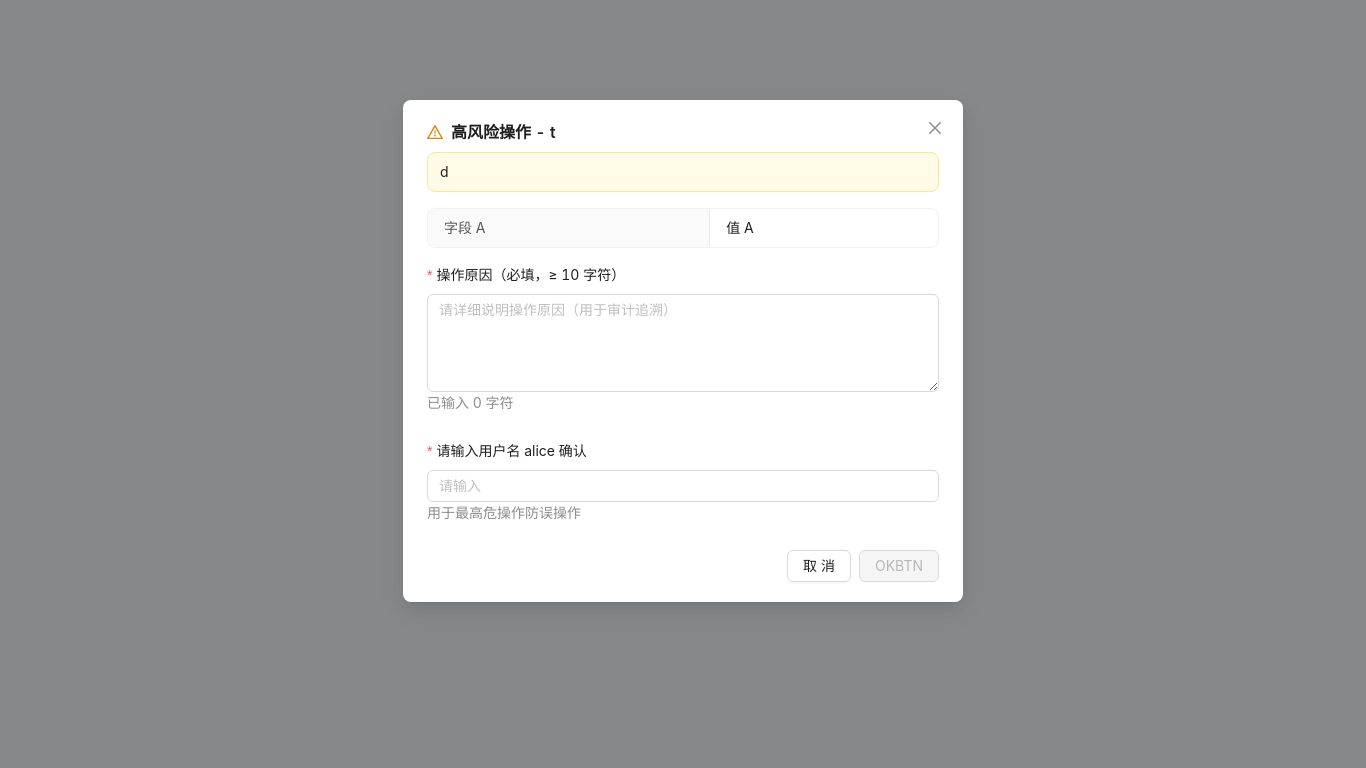
HighRiskConfirmModal (TC-HRC-FE-001 ~ 005) › TC-HRC-FE-002 (§4 commit E): usernameChallenge 不匹配时按钮 disabled
Type "撤销因风控规则触发的误操作以释放被冻结的余额" into the text box with placeholder "请详细说明操作原因（用于审计追溯）" at (683, 343), box left=427, top=294, right=939, bottom=392
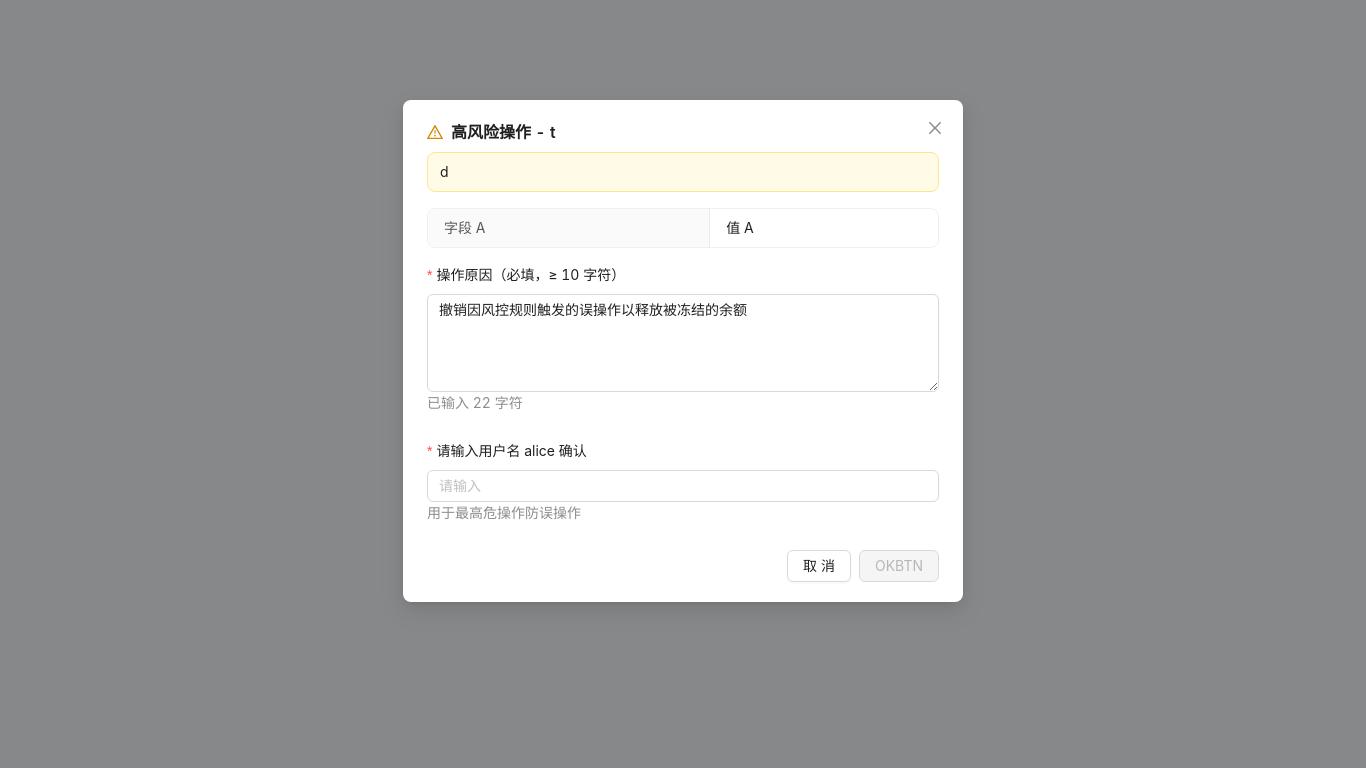
Expected: the button "OKBTN" is disabled, left=859, top=550, right=939, bottom=582
# 输入错误的 challenge → 仍 disabled + 红色提示
Type "bob" into the field with placeholder "请输入" at (683, 486), box left=427, top=470, right=939, bottom=502
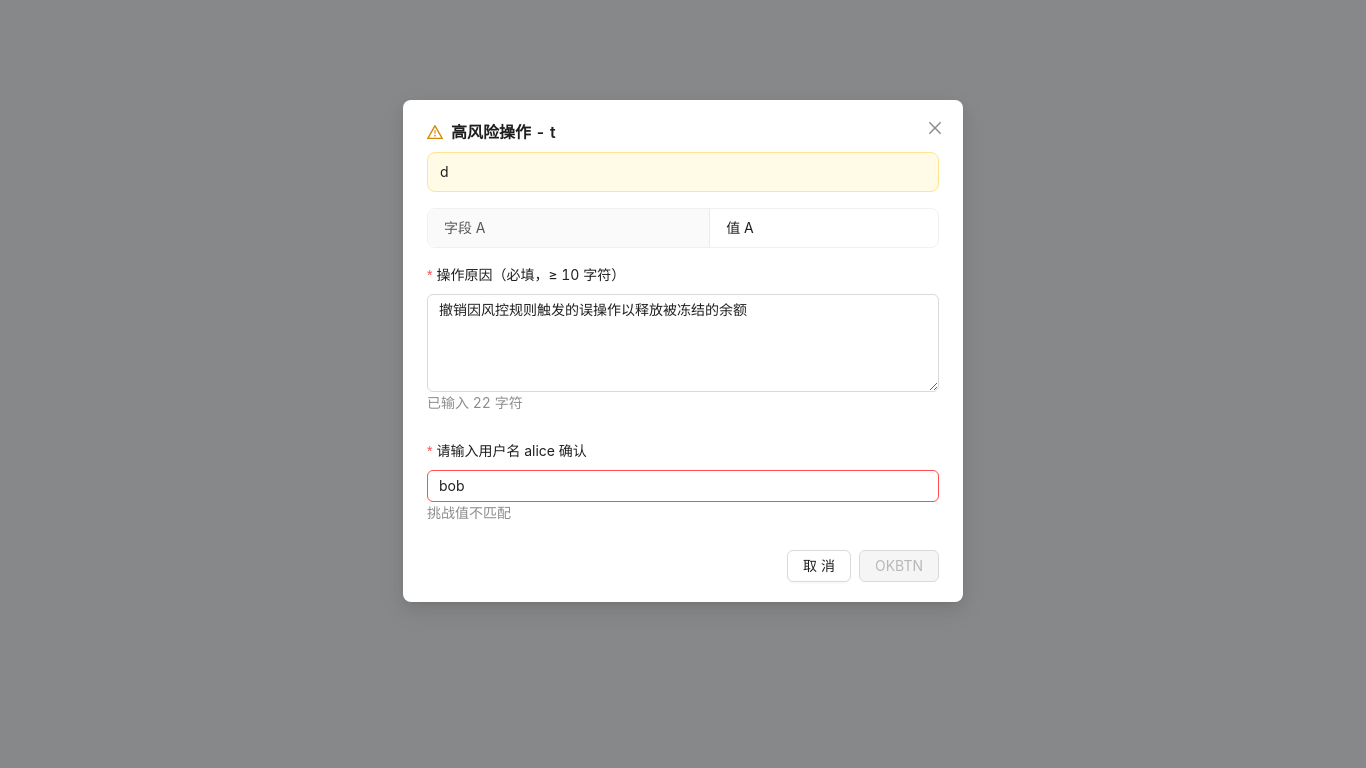
Expected: the button "OKBTN" is disabled, left=859, top=550, right=939, bottom=582
Expected: the text "挑战值不匹配" is shown, left=427, top=504, right=511, bottom=521
